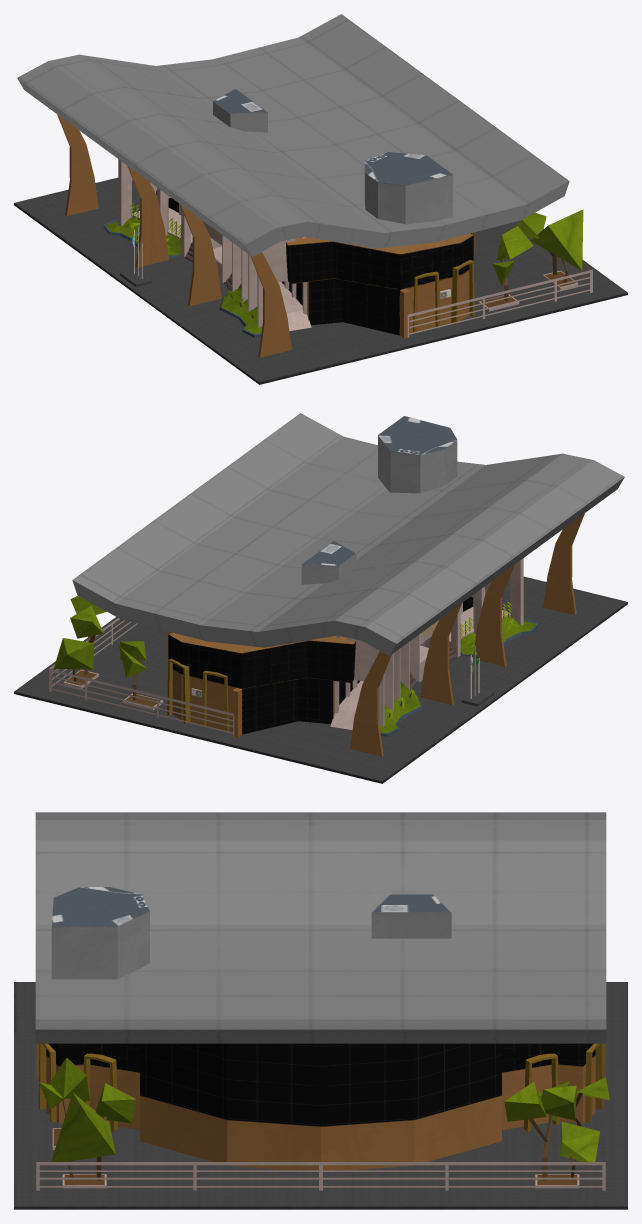
Rendered from assembleiaLOD1.fbx.
3 views of the same model, one above another, from view 1: azimuth 30°, elevation 25°; view 2: azimuth 150°, elevation 25°; view 3: azimuth 270°, elevation 25° (orthographic). The views are drawn at different scales.
Parts seen in each view (by area): view 1: assembleiaLOD1; view 2: assembleiaLOD1; view 3: assembleiaLOD1.
Part boxes in pixels (x1,y1,x2,y2): assembleiaLOD1: (14, 14, 627, 384); assembleiaLOD1: (14, 413, 627, 783); assembleiaLOD1: (14, 812, 627, 1209).
Size of the model in its own units: 4184 by 1596 by 4755.
